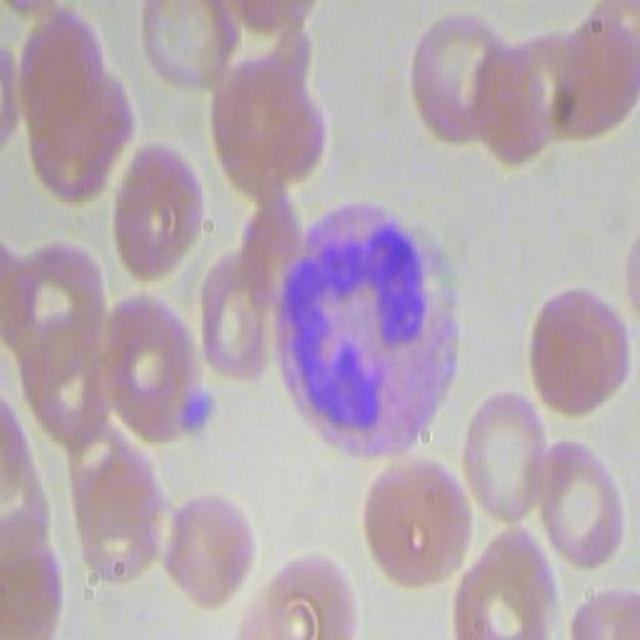Platelets: (182, 382, 218, 442)
RBC: (200, 50, 332, 207), (97, 286, 208, 454), (362, 448, 484, 592), (516, 284, 632, 425), (401, 1, 508, 150), (457, 386, 563, 534), (534, 429, 638, 578), (114, 142, 221, 286), (156, 492, 261, 614), (136, 0, 238, 94)
WBC: (272, 183, 473, 472)
